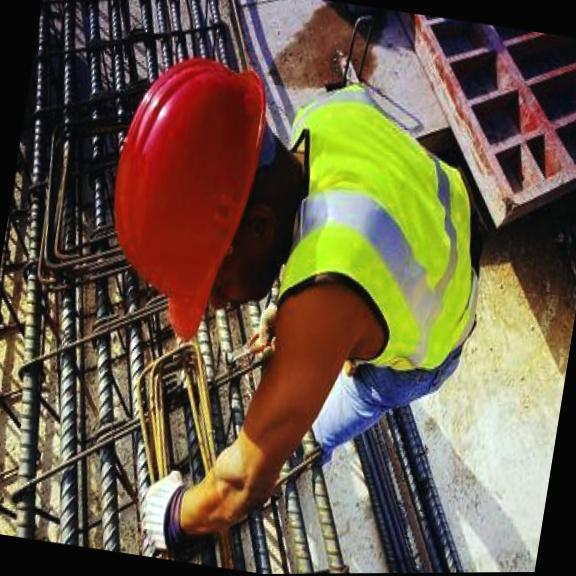safety_vest: (254, 86, 494, 363)
